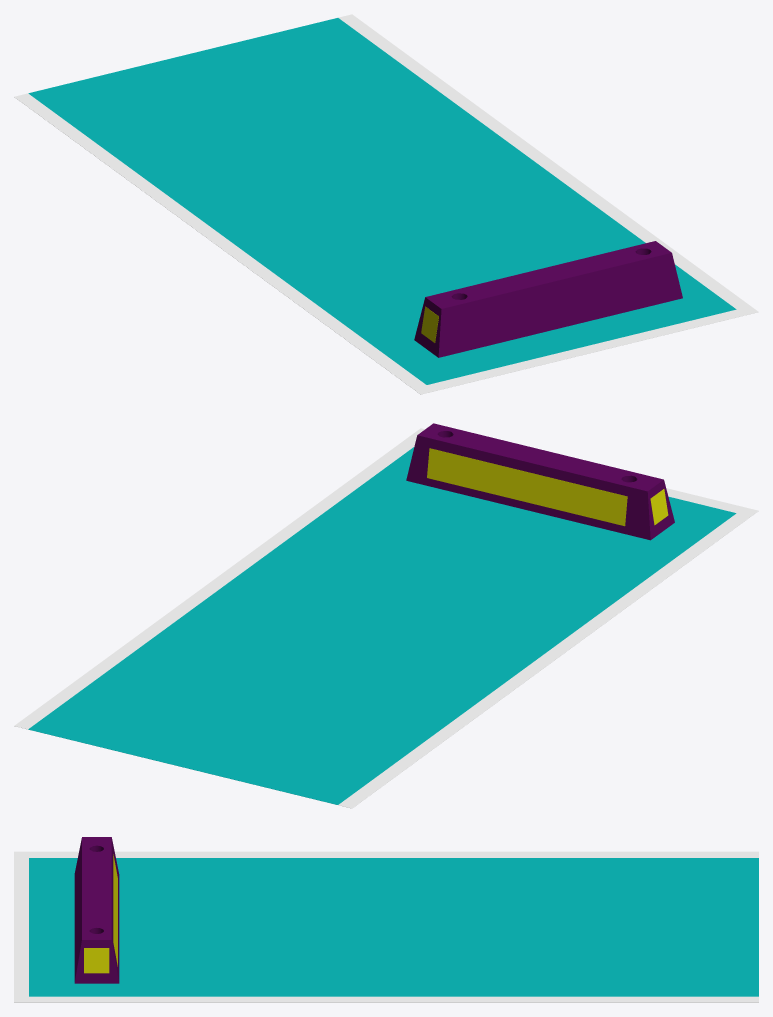
3 views of the same model, one above another, from view 1: azimuth 30°, elevation 25°; view 2: azimuth 150°, elevation 25°; view 3: azimuth 270°, elevation 25° (orthographic). The views are drawn at different scales.
Bounding box in the file's own units: 7.87 × 0.9875 × 16.4.
